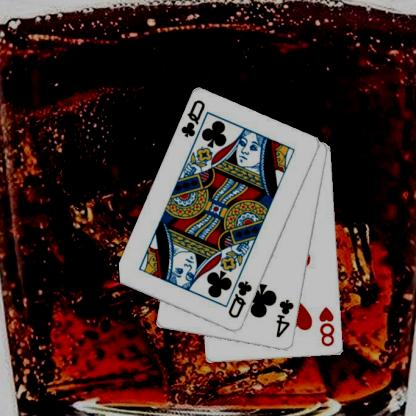4C: (274, 297, 295, 339)
8H: (317, 304, 336, 348)
QC: (179, 98, 207, 139), (226, 278, 253, 320)
